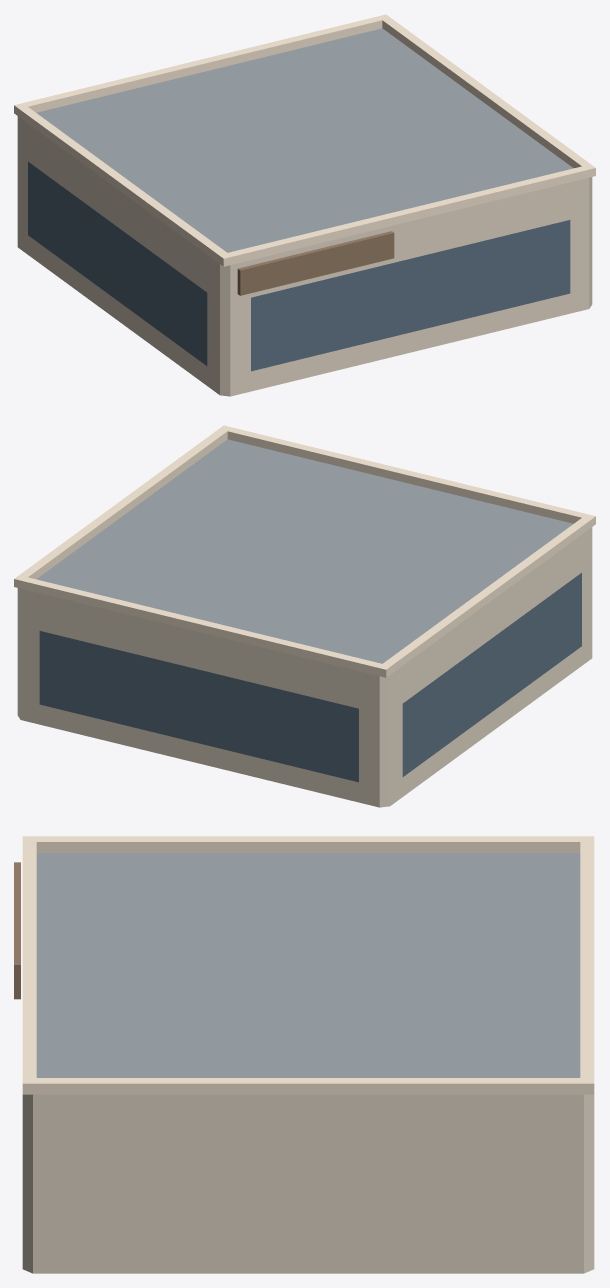
Rendered from clt-common-market-south-end.glb.
3 views of the same model, one above another, from view 1: azimuth 30°, elevation 25°; view 2: azimuth 150°, elevation 25°; view 3: azimuth 270°, elevation 25° (orthographic). The views are drawn at different scales.
Visible parts, largest first — view 1: Common Market South End; view 2: Common Market South End; view 3: Common Market South End.
Part boxes in pixels (x1,y1,x2,y2): Common Market South End: (14,14,595,396); Common Market South End: (14,425,595,807); Common Market South End: (14,836,594,1273).
Bounding box in the file's own units: 16.95 × 6.05 × 16.8.
